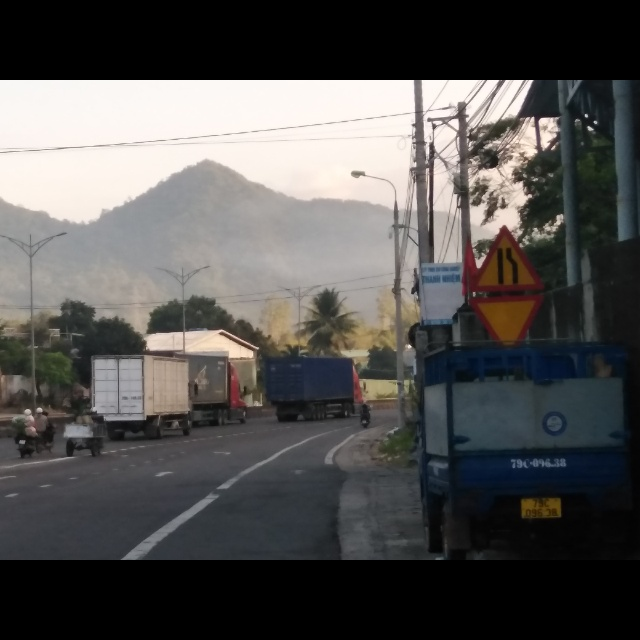Giao nhau với đường ưu tiên: (467, 293, 544, 344)
Đường bị hẹp bên phải: (468, 222, 545, 293)
